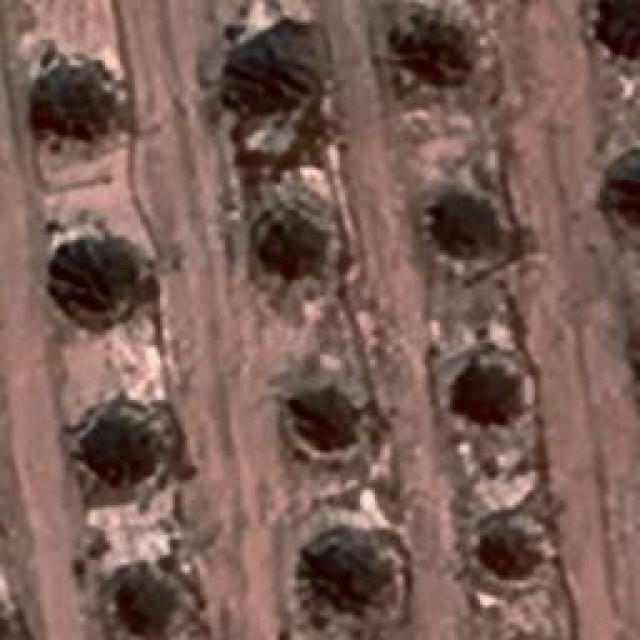PalmTree: (53, 67, 614, 186), (45, 28, 618, 67), (304, 511, 394, 624), (44, 234, 138, 334), (76, 406, 169, 496), (395, 0, 490, 88), (36, 51, 112, 149), (251, 182, 334, 266), (222, 23, 312, 96), (426, 187, 509, 265), (454, 351, 526, 421), (284, 394, 348, 468), (106, 577, 186, 625), (476, 520, 542, 578)
